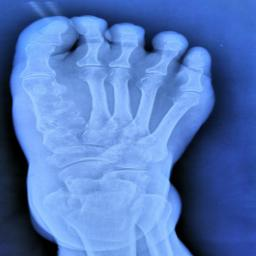cancer: (20, 74, 86, 154)
